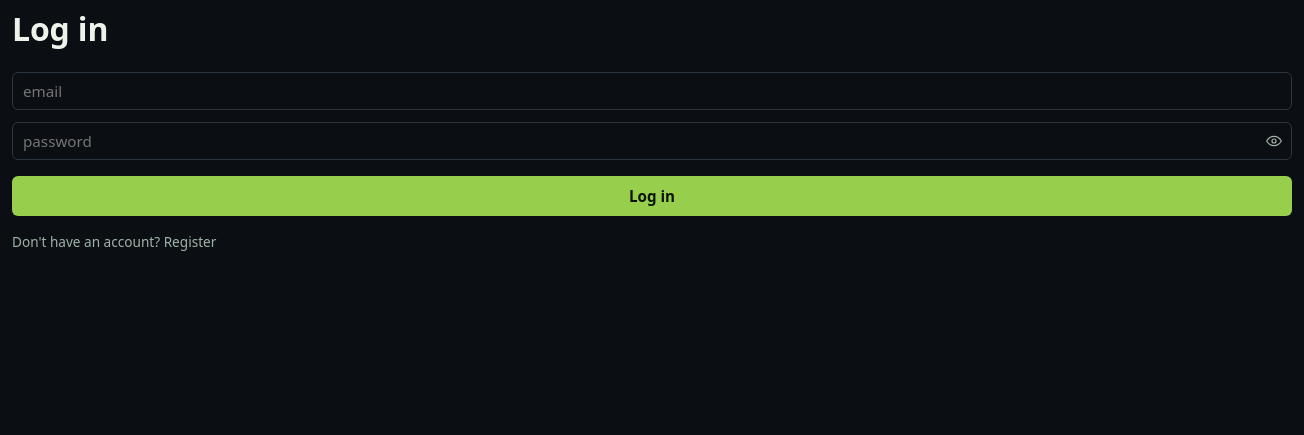
LoginForm › translates a known backend error (email already registered)
Click the button "Don't have an account? Register": click(114, 241) [12,228,1292,255]
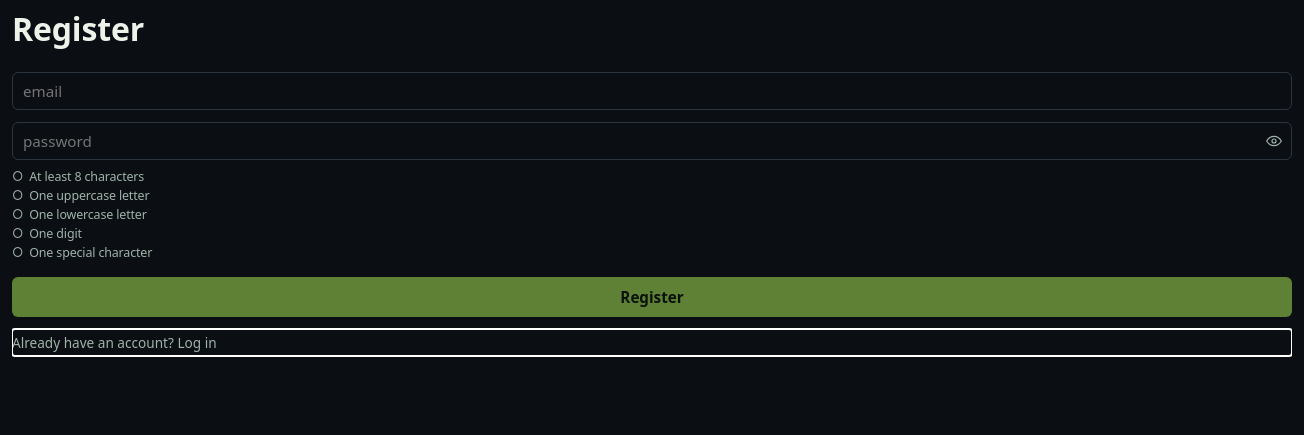
In the field with placeholder "email": (652, 91) [12,72,1292,110], type "taken@example.com"
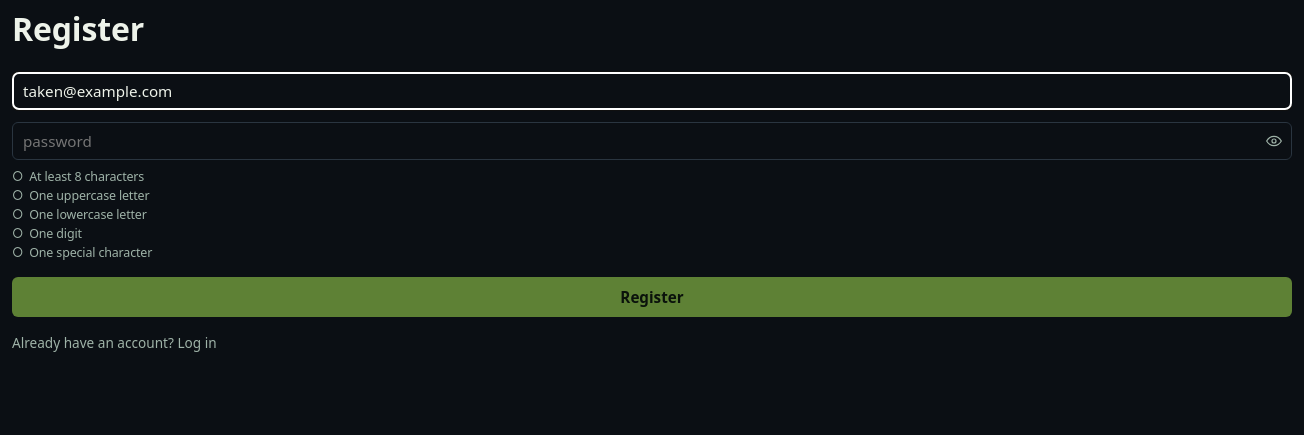
In the password field with placeholder "password": (652, 141) [12,122,1292,160], type "Password123!"
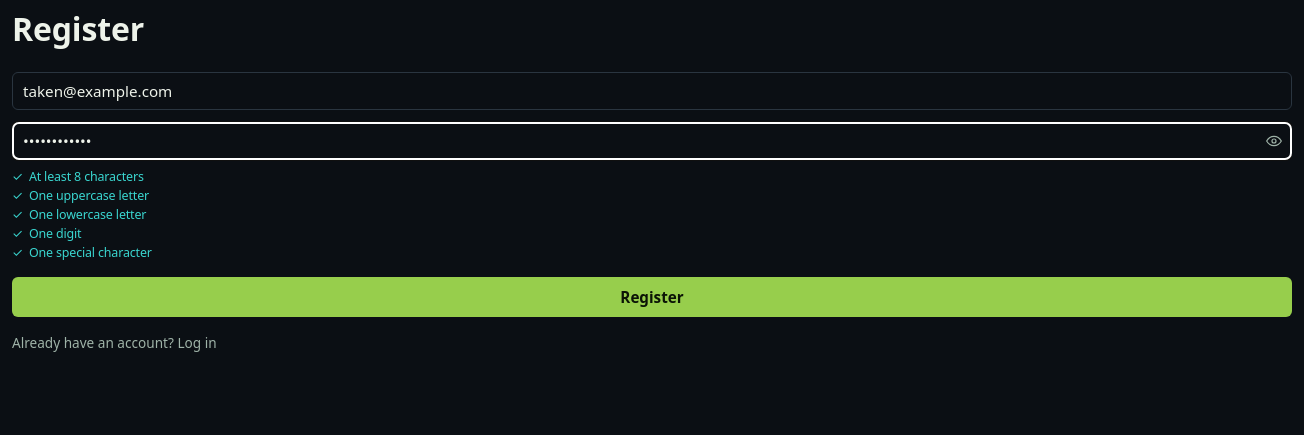
Click the button "Register": click(652, 297) [12,277,1292,317]
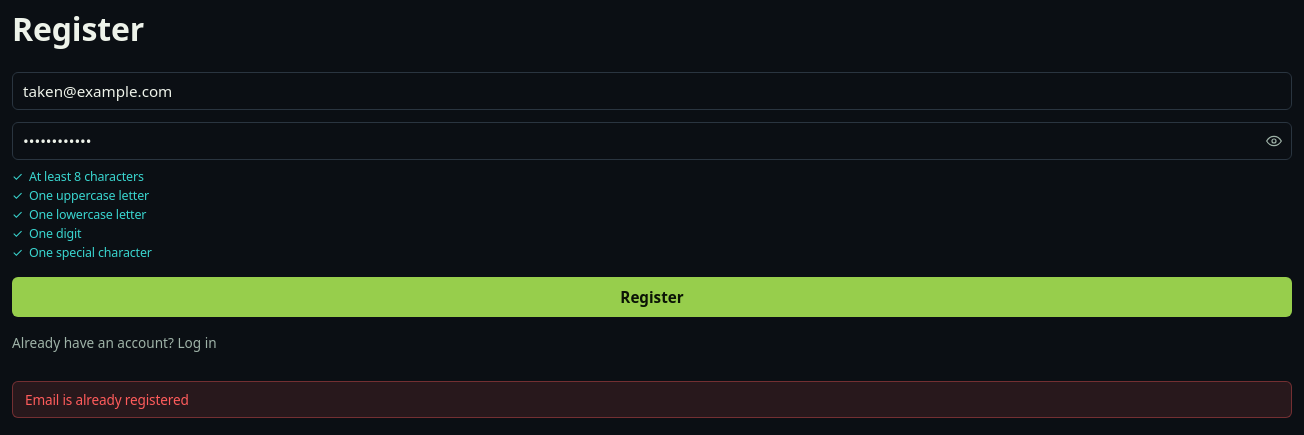
Expected: the text "Email is already registered" is shown, [12,382,1292,418]
